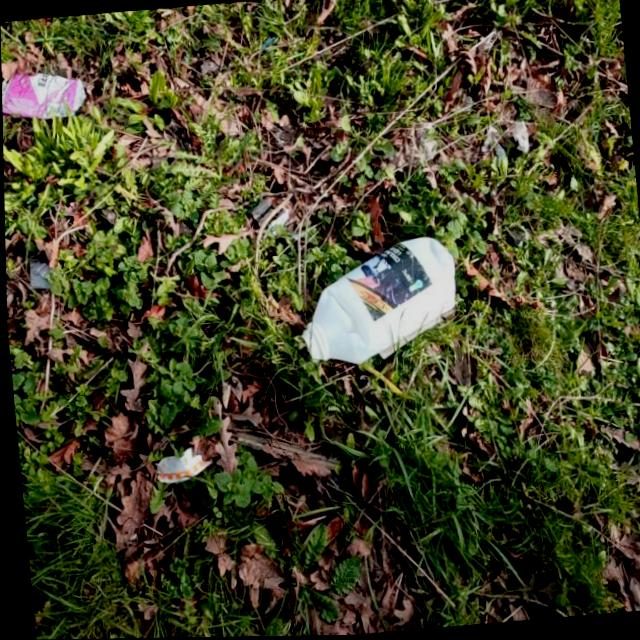Can-Metal: (1, 46, 93, 131)
